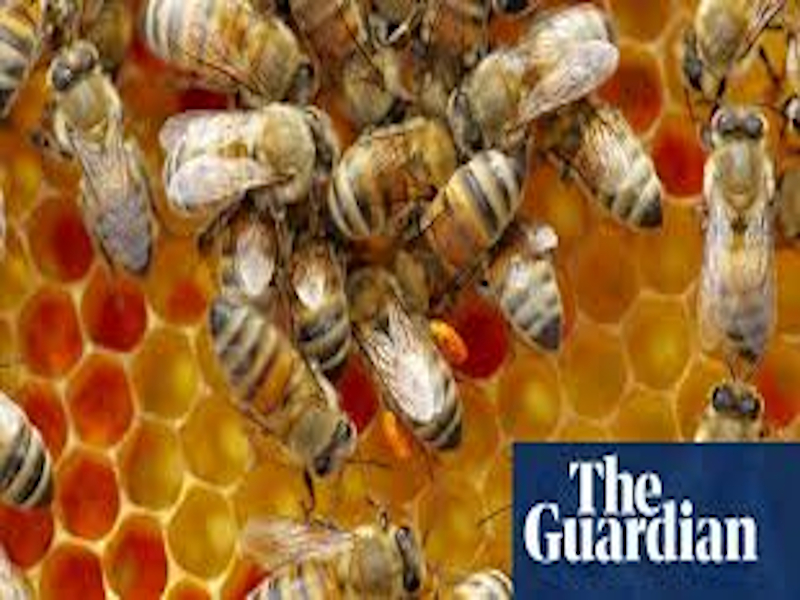abeja: (34, 34, 171, 271), (452, 1, 619, 185), (205, 295, 364, 487), (683, 97, 795, 363), (340, 270, 492, 458), (153, 1, 342, 137), (170, 94, 349, 216)
